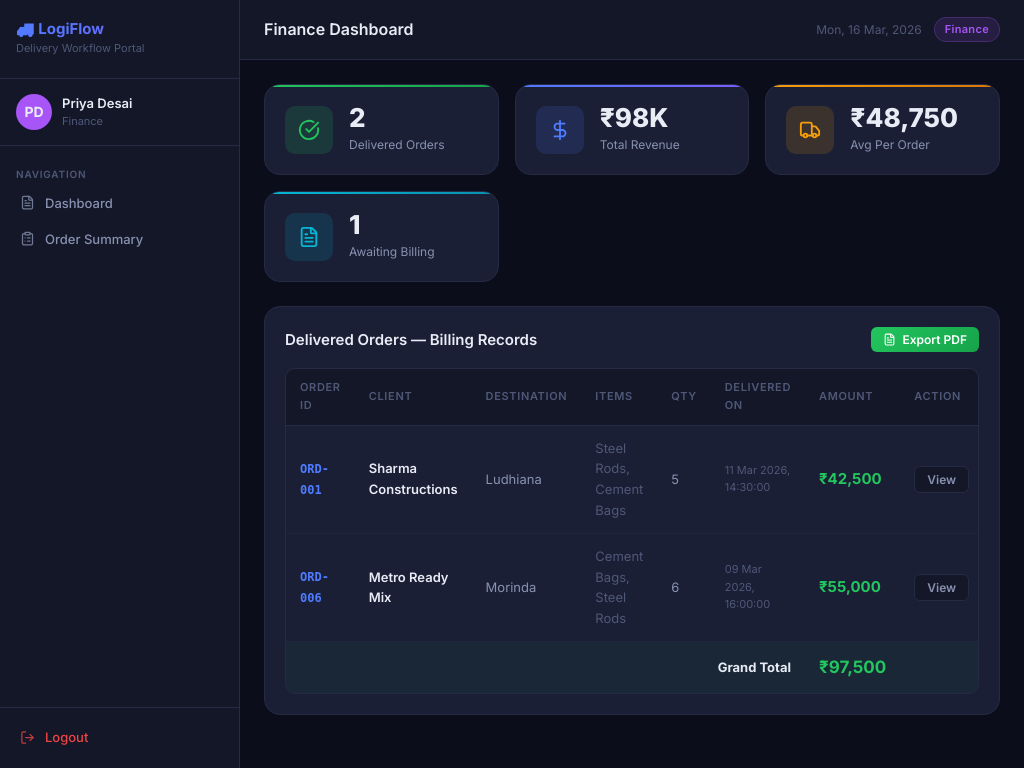
Scenario: Finance Dashboard › clicking View opens the order detail modal with Billing Amount
The image size is (1024, 768).
Click the button "View" in the row of "ORD-001" at [942, 479], box [914,466,969,493]
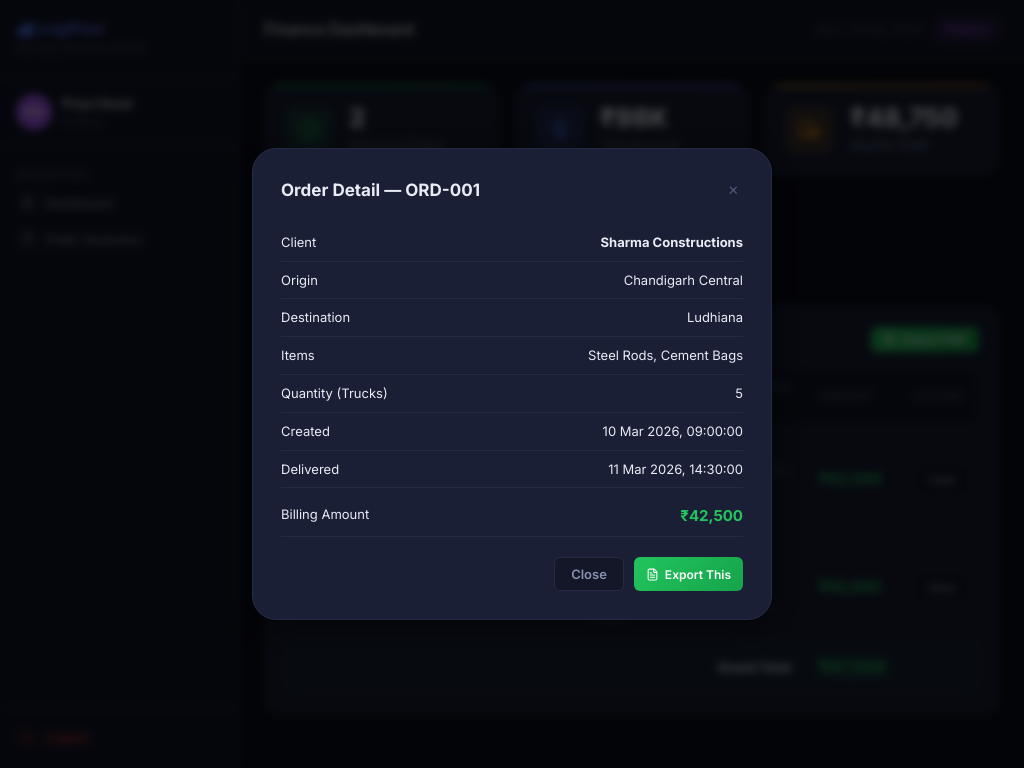
Expected: the text "Billing Amount" is shown, [281,504,369,528]
